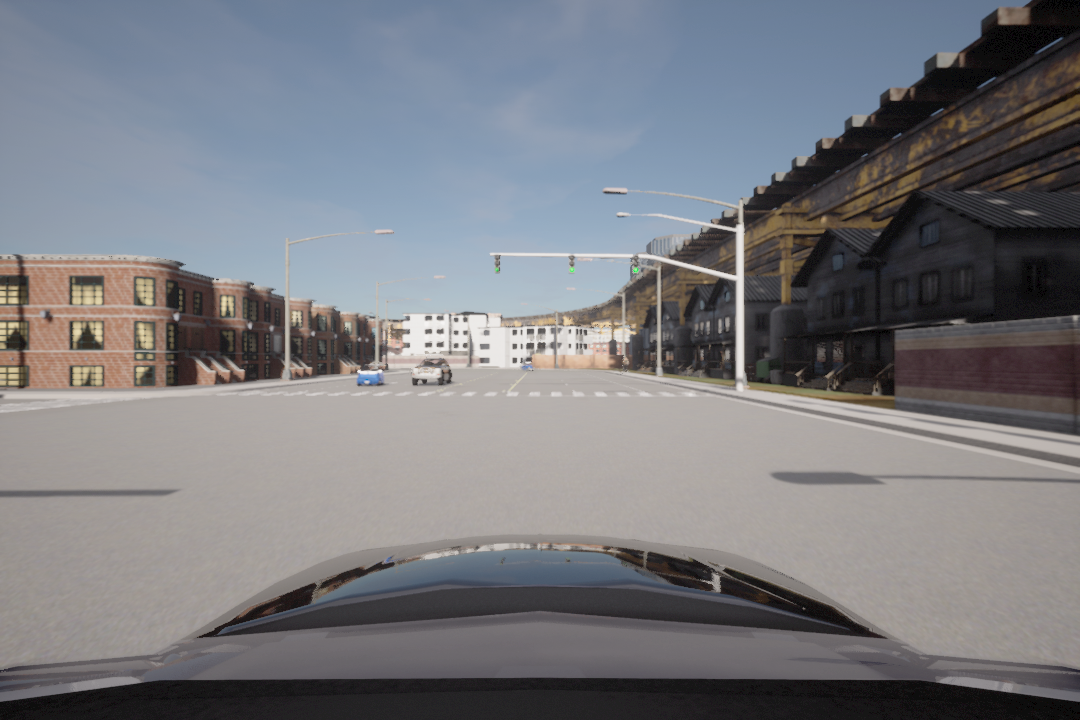TrafficLight: (565, 254, 579, 276), (491, 252, 502, 274), (631, 254, 641, 276)
walkside: (211, 390, 715, 401)
